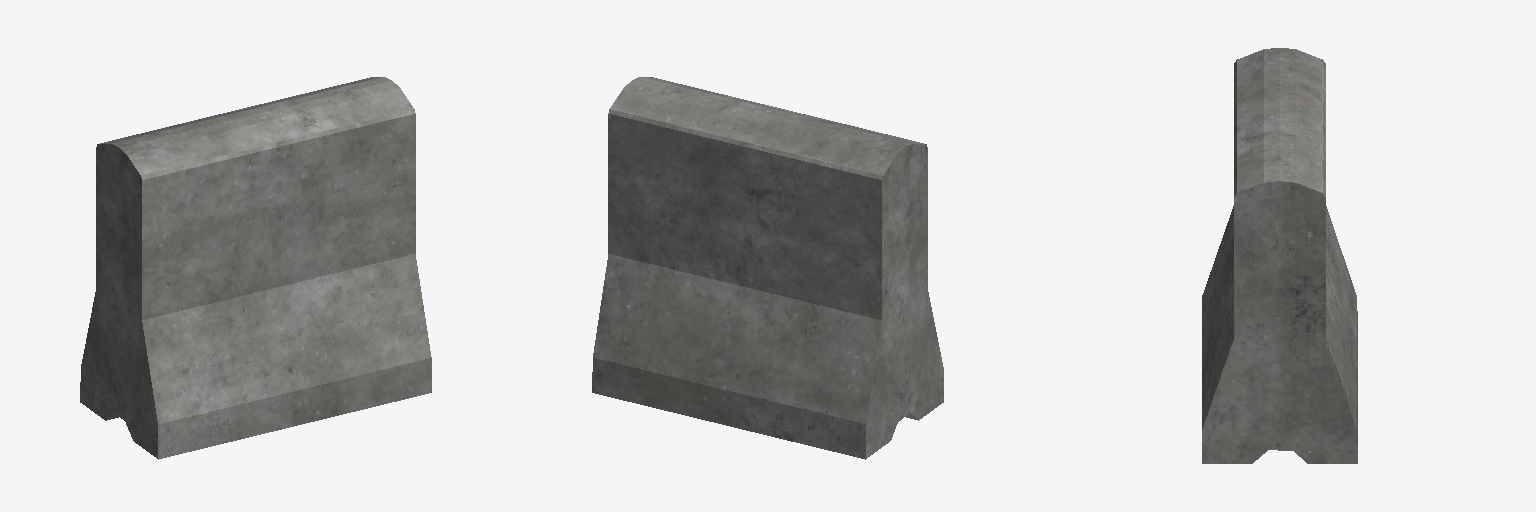
3 views of the same model, side by side, from view 1: azimuth 30°, elevation 25°; view 2: azimuth 150°, elevation 25°; view 3: azimuth 270°, elevation 25° (orthographic).
Visible parts, largest first — view 1: concrete_barrier; view 2: concrete_barrier; view 3: concrete_barrier.
Boxes of the visible parts, <box> form: concrete_barrier: <box>80,77,431,459</box>; concrete_barrier: <box>592,77,943,459</box>; concrete_barrier: <box>1202,48,1357,463</box>.
Size of the model in its own units: 1 by 0.9912 by 0.4971.
1 materials, 1 textured.